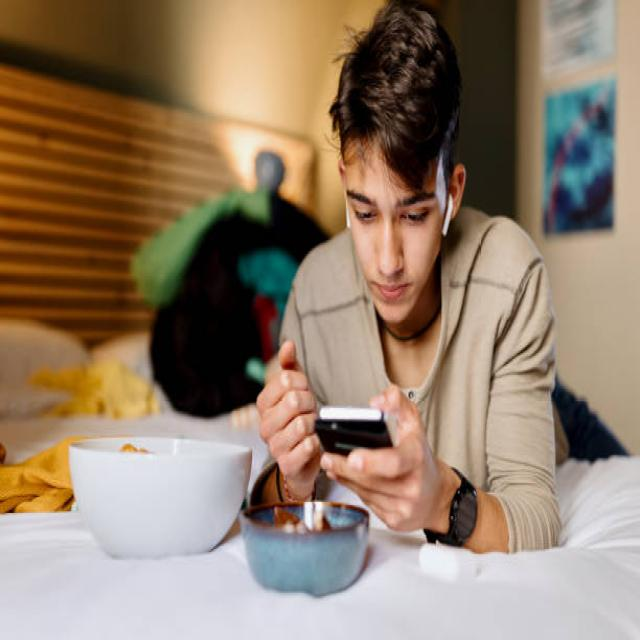airpods: (440, 192, 453, 238)
